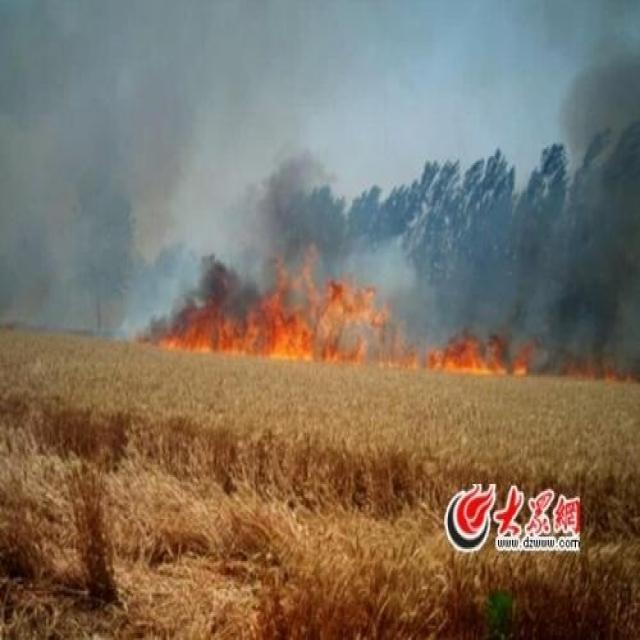Fire: (147, 260, 531, 376)
Smoke: (1, 2, 307, 340), (508, 1, 640, 368), (329, 233, 451, 347)
